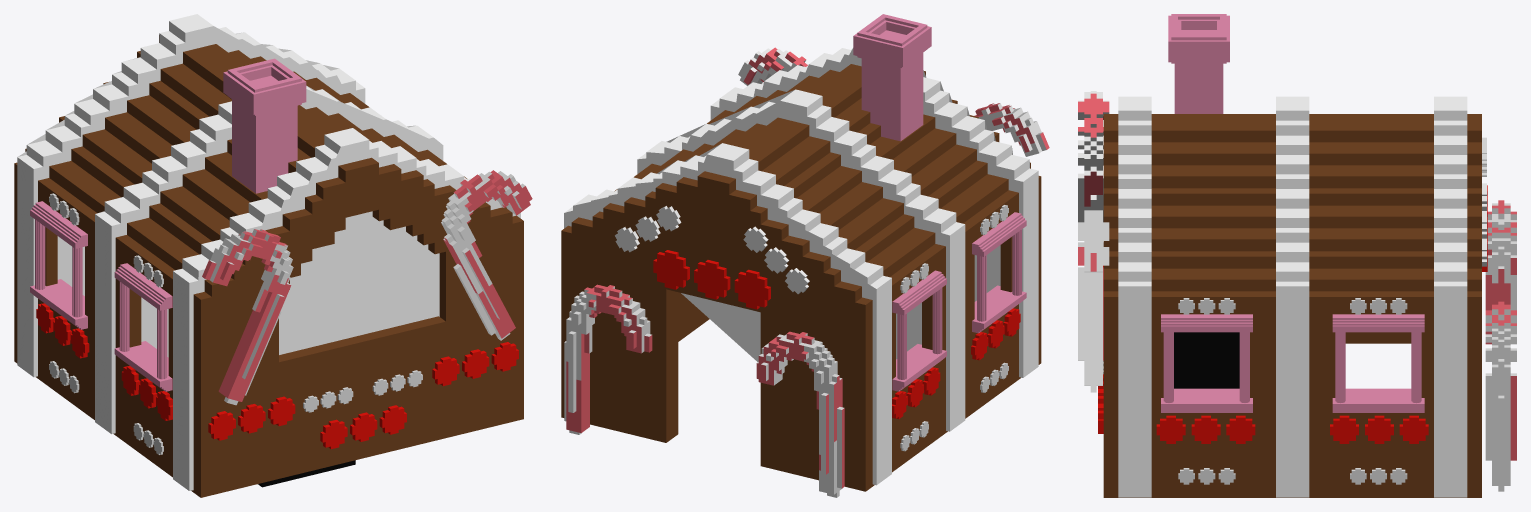
The model's file is gingerbread house.fbx.
The picture shows the model from 3 angles, left to right: view 1: azimuth 30°, elevation 25°; view 2: azimuth 150°, elevation 25°; view 3: azimuth 270°, elevation 25°; orthographic projection. The views are drawn at different scales.
Parts seen in each view (by area): view 1: Cube.008, Plane, Cube.009, Cylinder.009, Cube.010, window, Cylinder.006; view 2: Cube.008, Plane, Cube.009, Cube.010, window, Cylinder.009, Cylinder.006; view 3: Cube.008, Plane, Cube.009, window, Cube.010, Cylinder.009, Cube.011, Cylinder.006.
Part boxes in pixels (<box>): Cube.008: <box>14,35,523,497</box>; Plane: <box>17,14,520,490</box>; Cube.009: <box>202,170,532,405</box>; Cylinder.009: <box>36,303,518,449</box>; Cube.010: <box>223,58,306,193</box>; window: <box>30,201,172,391</box>; Cylinder.006: <box>49,176,464,454</box>; Cube.008: <box>561,64,1041,491</box>; Plane: <box>564,48,1038,485</box>; Cube.009: <box>564,47,1049,497</box>; Cube.010: <box>853,14,931,141</box>; window: <box>892,212,1026,391</box>; Cylinder.009: <box>653,250,1020,419</box>; Cylinder.006: <box>615,189,1008,451</box>; Cube.008: <box>1103,114,1481,497</box>; Plane: <box>1118,96,1467,497</box>; Cube.009: <box>1078,91,1516,491</box>; window: <box>1161,314,1424,412</box>; Cube.010: <box>1168,14,1229,113</box>; Cylinder.009: <box>1098,185,1487,443</box>; Cube.011: <box>1174,332,1239,388</box>; Cylinder.006: <box>1103,137,1486,484</box>.
Size of the model in its own units: 6293 by 6382 by 6772.
